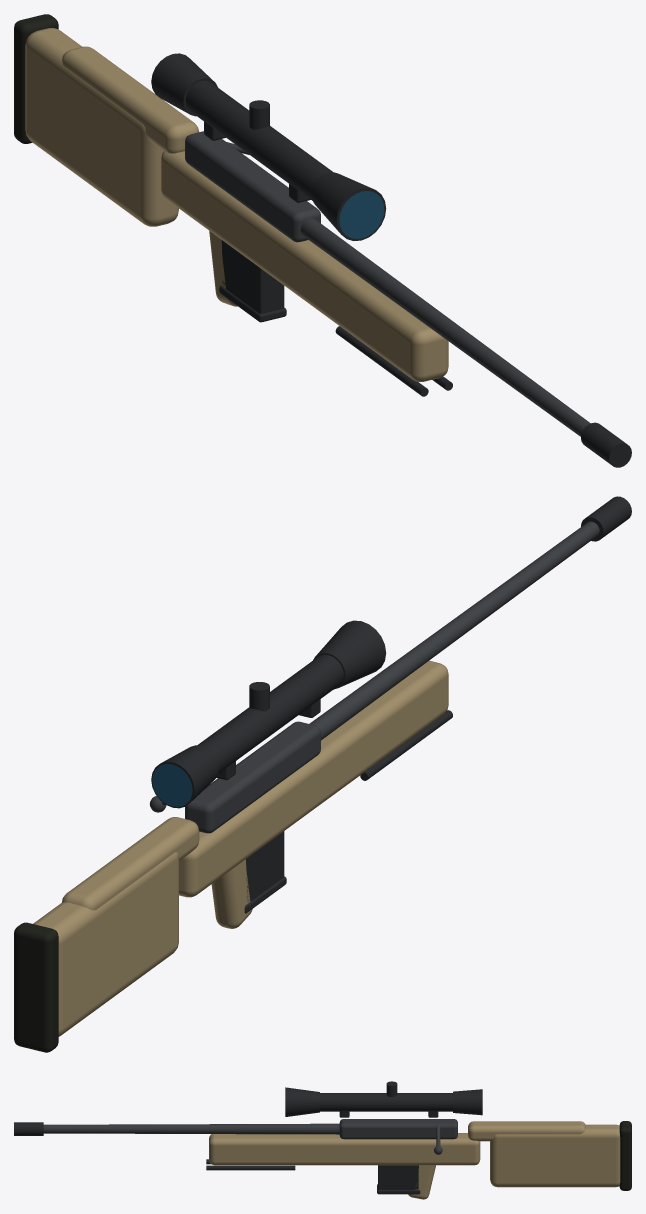
Rendered from sniper_rifle.glb.
3 views of the same model, one above another, from view 1: azimuth 30°, elevation 25°; view 2: azimuth 150°, elevation 25°; view 3: azimuth 270°, elevation 25° (orthographic). The views are drawn at different scales.
Visible parts, largest first — view 1: Chassis, StockButt, Barrel, Receiver, ScopeBody, StockComb, Magazine, ScopeEyepiece, ButtPad, ScopeObjective, ScopeLensFront, MuzzleBrake (+2 smaller); view 2: Chassis, StockButt, Barrel, Receiver, ButtPad, ScopeBody, StockComb, ScopeObjective, Grip, Magazine, ScopeEyepiece, ScopeLensRear (+2 smaller); view 3: Chassis, StockButt, Barrel, ScopeBody, Receiver, StockComb, Magazine, ScopeObjective, ButtPad, ScopeEyepiece, BipodLeg, Grip (+2 smaller).
Part boxes in pixels (x1=…): Chassis: x1=161, y1=151, x2=448, y2=381; StockButt: x1=25, y1=28, x2=178, y2=226; Barrel: x1=300, y1=218, x2=590, y2=436; Receiver: x1=185, y1=131, x2=320, y2=242; ScopeBody: x1=185, y1=80, x2=332, y2=200; StockComb: x1=61, y1=46, x2=198, y2=153; Magazine: x1=222, y1=240, x2=284, y2=313; ScopeEyepiece: x1=151, y1=53, x2=217, y2=116; ButtPad: x1=14, y1=14, x2=58, y2=143; ScopeObjective: x1=311, y1=172, x2=386, y2=240; ScopeLensFront: x1=339, y1=191, x2=384, y2=238; MuzzleBrake: x1=581, y1=422, x2=631, y2=467; Chassis: x1=179, y1=660, x2=448, y2=897; StockButt: x1=33, y1=852, x2=178, y2=1036; Barrel: x1=309, y1=521, x2=599, y2=740; Receiver: x1=185, y1=721, x2=320, y2=833; ButtPad: x1=14, y1=922, x2=58, y2=1052; ScopeBody: x1=197, y1=654, x2=343, y2=773; StockComb: x1=62, y1=817, x2=199, y2=910; ScopeObjective: x1=313, y1=620, x2=386, y2=689; Grip: x1=211, y1=859, x2=252, y2=928; Magazine: x1=245, y1=831, x2=284, y2=901; ScopeEyepiece: x1=151, y1=745, x2=218, y2=808; ScopeLensRear: x1=152, y1=763, x2=192, y2=806; Chassis: x1=209, y1=1133, x2=480, y2=1165; StockButt: x1=490, y1=1124, x2=620, y2=1187; Barrel: x1=43, y1=1123, x2=339, y2=1134; ScopeBody: x1=320, y1=1093, x2=452, y2=1111; Receiver: x1=339, y1=1119, x2=457, y2=1139; StockComb: x1=468, y1=1121, x2=585, y2=1141; Magazine: x1=378, y1=1165, x2=418, y2=1189; ScopeObjective: x1=285, y1=1087, x2=319, y2=1116; ButtPad: x1=619, y1=1121, x2=631, y2=1190; ScopeEyepiece: x1=453, y1=1089, x2=482, y2=1115; BipodLeg: x1=206, y1=1165, x2=295, y2=1170; Grip: x1=408, y1=1165, x2=435, y2=1199.
Size of the model in its own units: 0.1094 by 0.2565 by 1.25.
